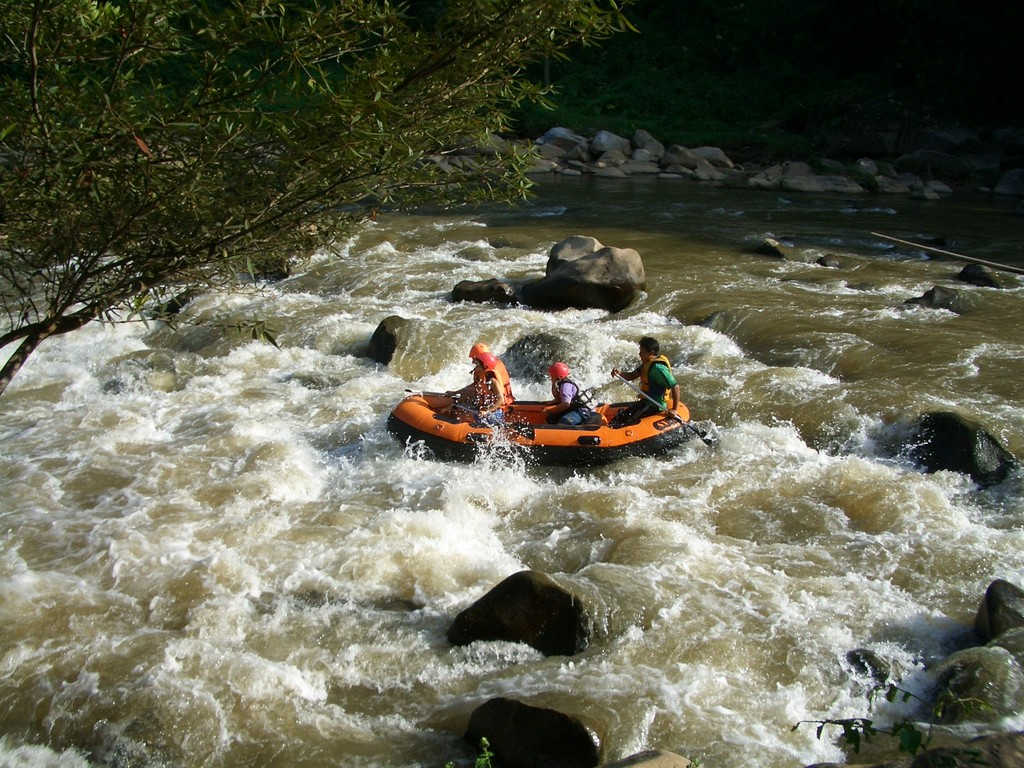Person: (605, 332, 680, 429), (443, 345, 521, 429), (545, 361, 591, 424)
